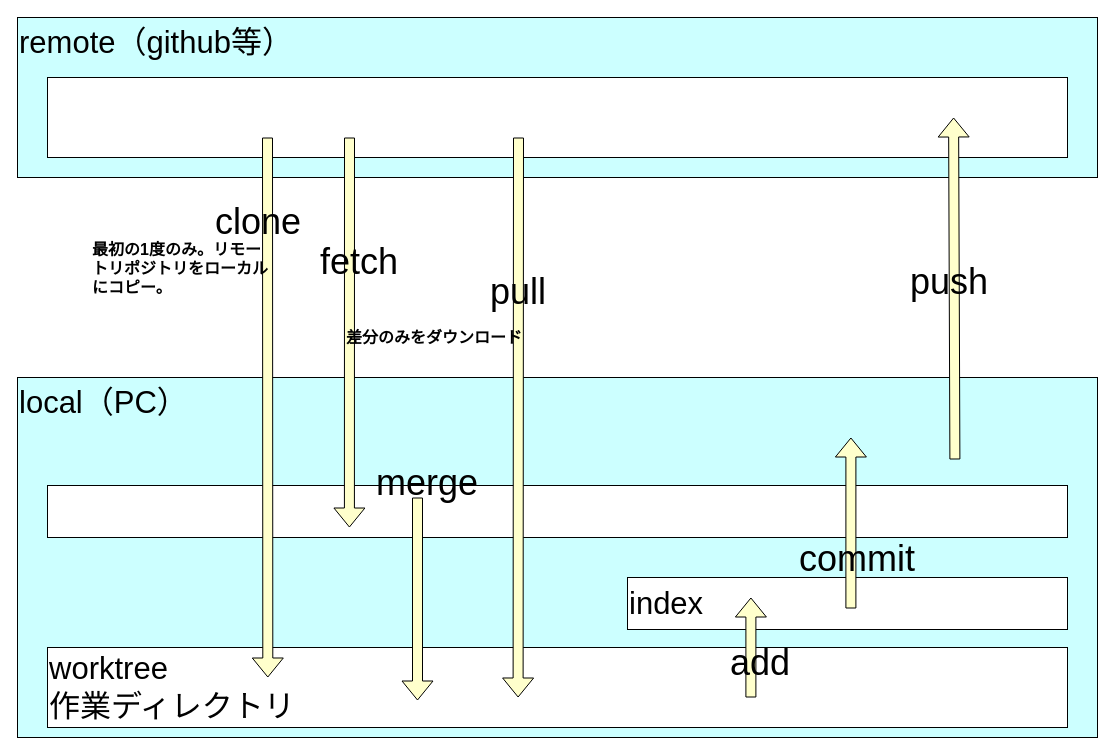
Image size: 1115x755. Some labels were removed from this diagram. Each missing label, with the centre of its shape:
"repository" goes at (x=557, y=511).
"repository(origin)" goes at (x=557, y=117).
